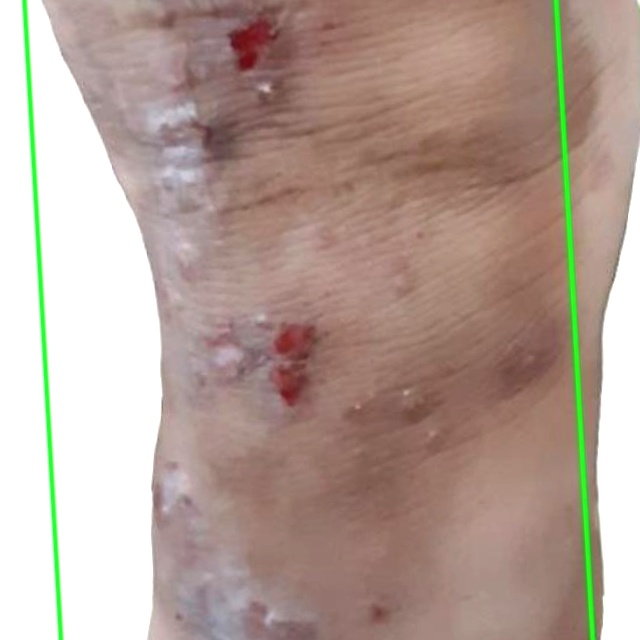Eczema: (24, 0, 639, 639)
